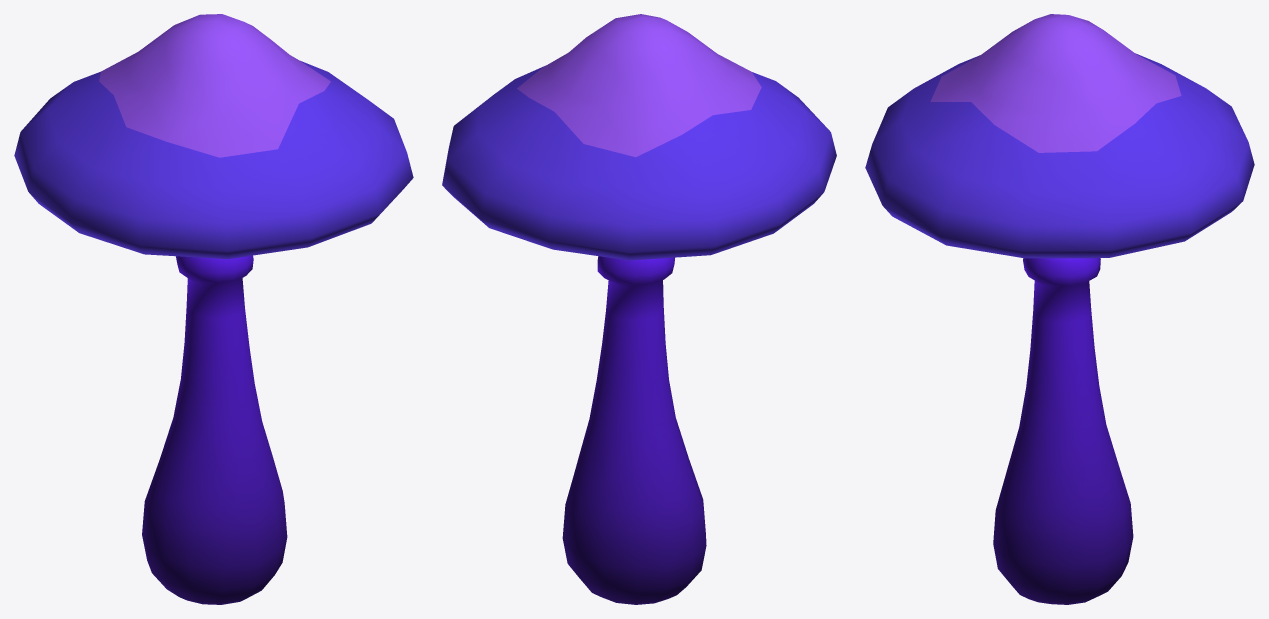
File: Mushroom_0001_0022.fbx
3 views of the same model, side by side, from view 1: azimuth 30°, elevation 25°; view 2: azimuth 150°, elevation 25°; view 3: azimuth 270°, elevation 25° (orthographic).
Visible parts, largest first — view 1: Mushroom_0001_0022; view 2: Mushroom_0001_0022; view 3: Mushroom_0001_0022.
Part boxes in pixels (x1,y1,x2,y2): Mushroom_0001_0022: [14, 14, 413, 604]; Mushroom_0001_0022: [442, 14, 836, 604]; Mushroom_0001_0022: [865, 14, 1254, 604].
Bounding box in the file's own units: 0.1932 × 0.3176 × 0.1971.
1 material, 1 textured.
